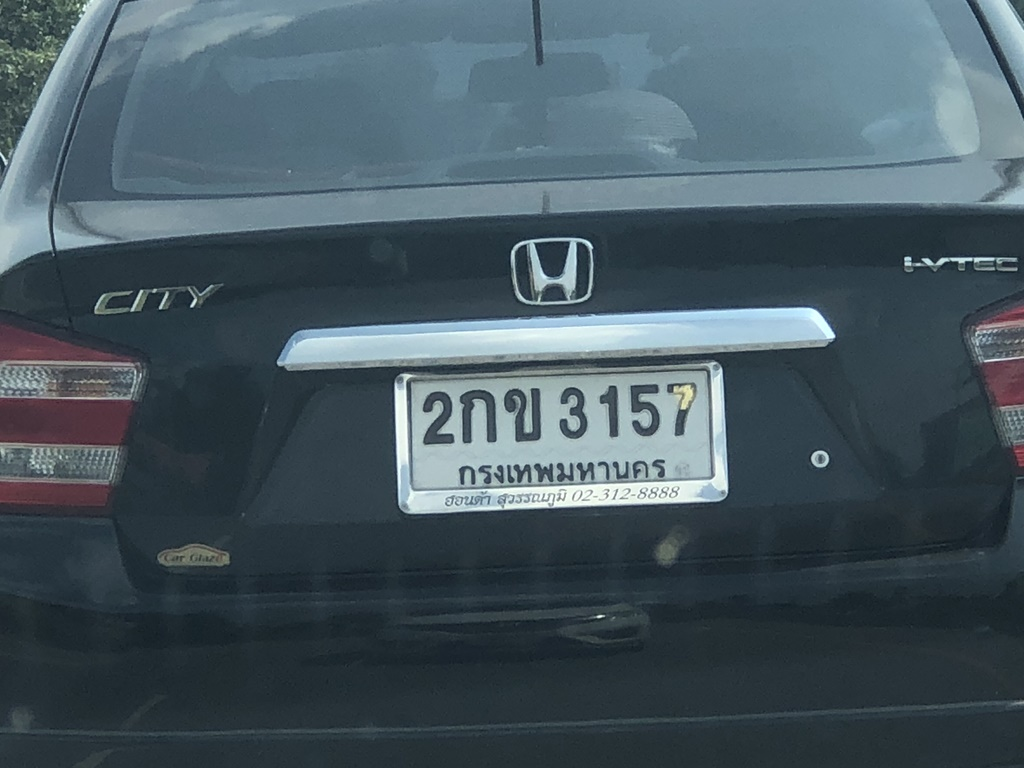plate: (394, 351, 734, 518)
